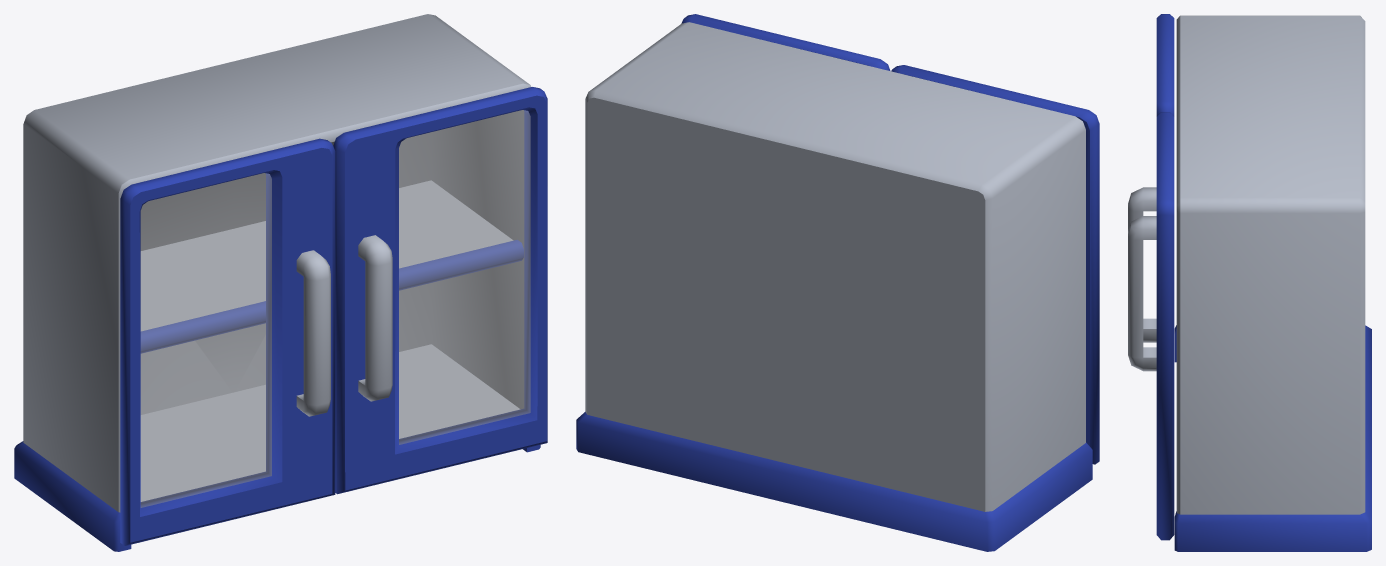
The model's file is cool shelf.fbx.
3 renders of one model, left to right at view 1: azimuth 30°, elevation 25°; view 2: azimuth 150°, elevation 25°; view 3: azimuth 270°, elevation 25°, orthographic. The views are drawn at different scales.
Parts seen in each view (by area): view 1: cool shelf; view 2: cool shelf; view 3: cool shelf.
Part boxes in pixels (x1,y1,x2,y2): cool shelf: (14,14,547,551); cool shelf: (576,14,1099,551); cool shelf: (1128,14,1371,551).
Bounding box in the file's own units: 227 × 187 × 119.
